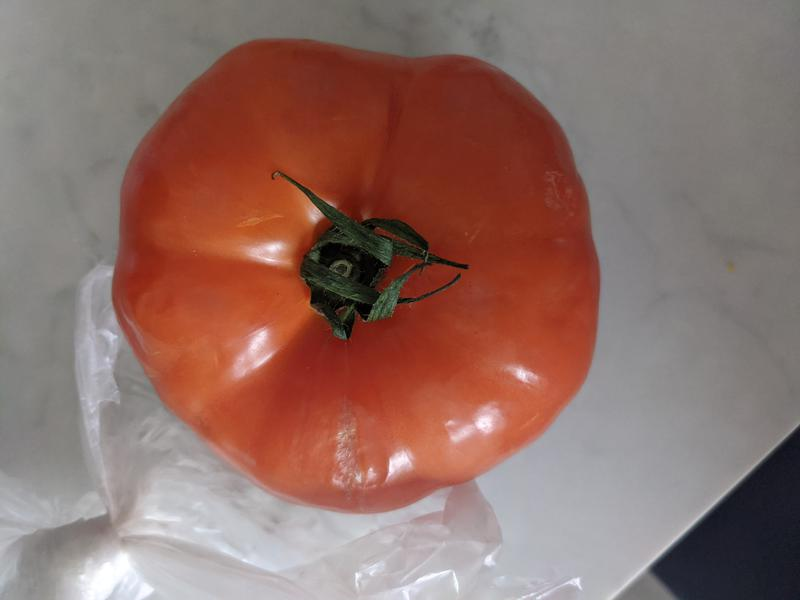tomato: (111, 38, 601, 514)
